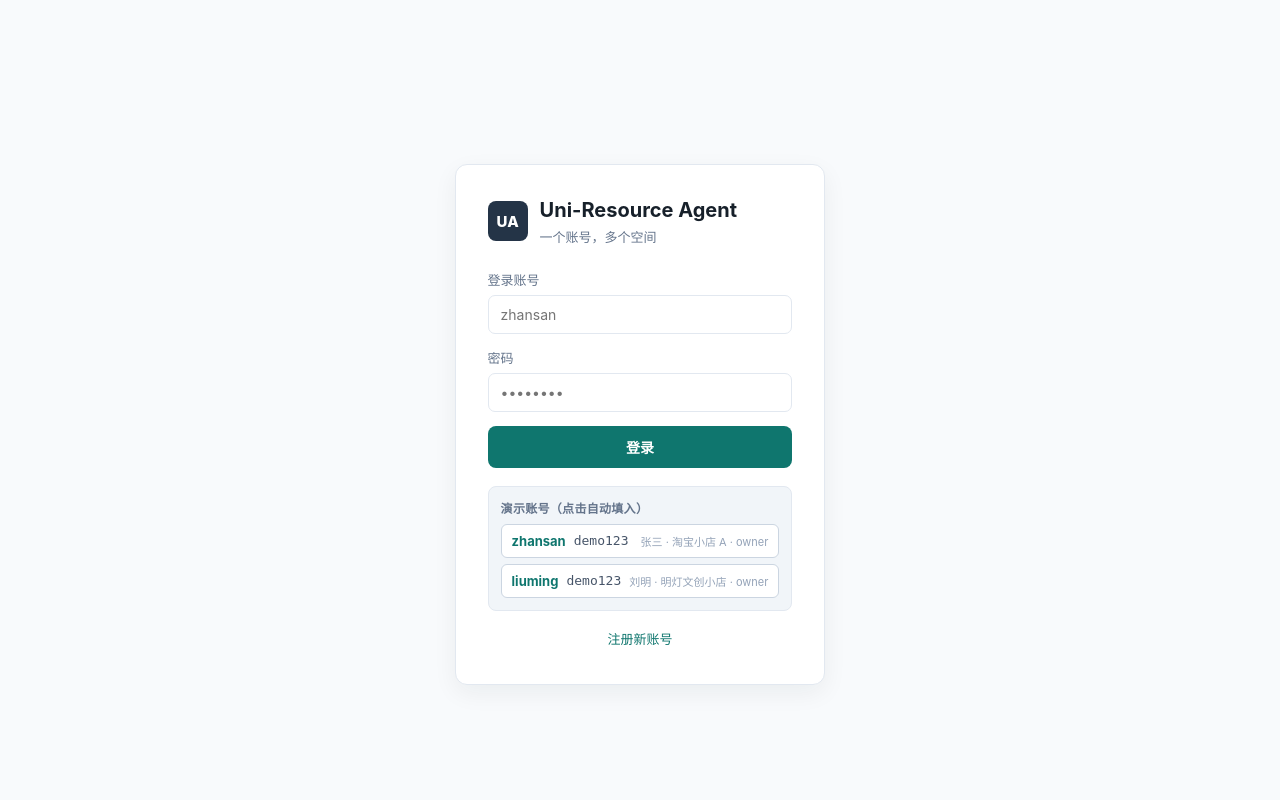
Test: App shell › places the header full-width on top, above the sidebar+main body grid
This screenshot has width=1280, height=800.
In the field with test id "login": [640, 314] box [488,294,792,334], type "shopkeeper"
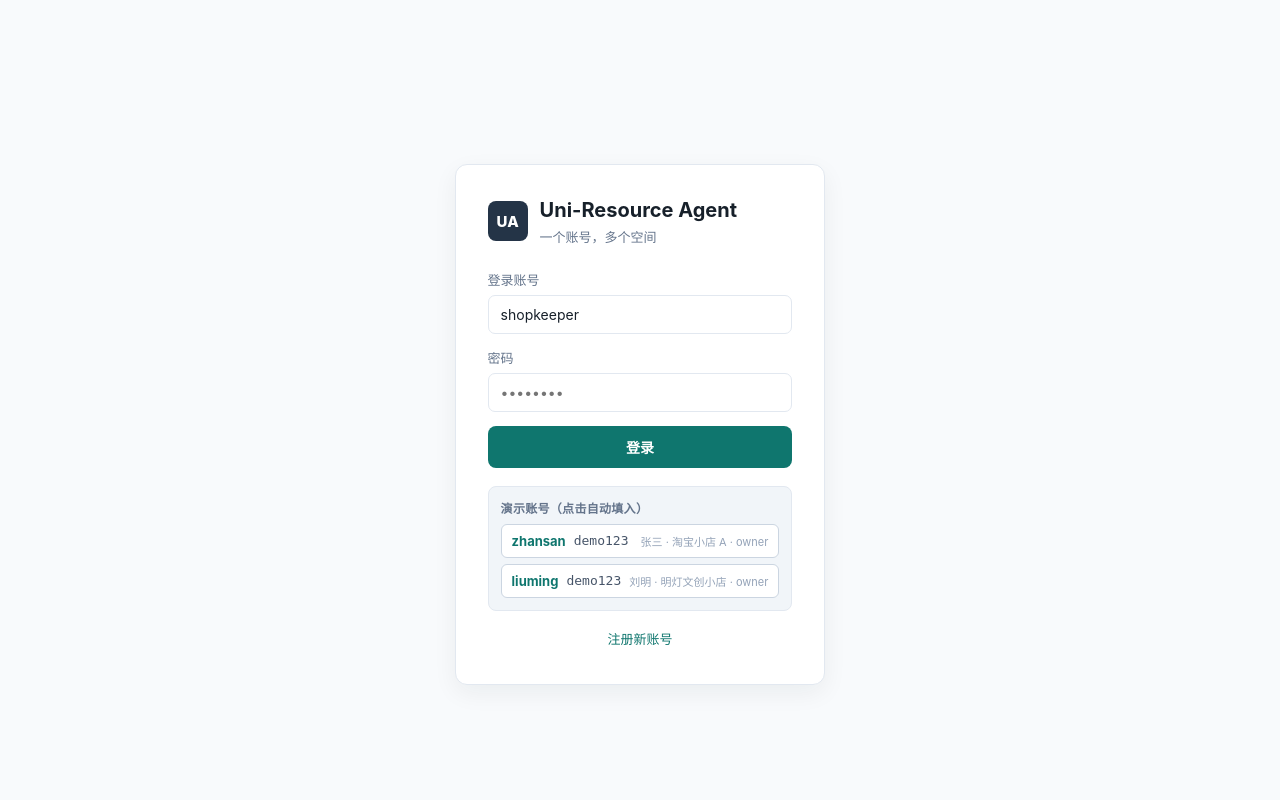
In the password field with test id "password": [640, 392] box [488,372,792,412], type "pass123"
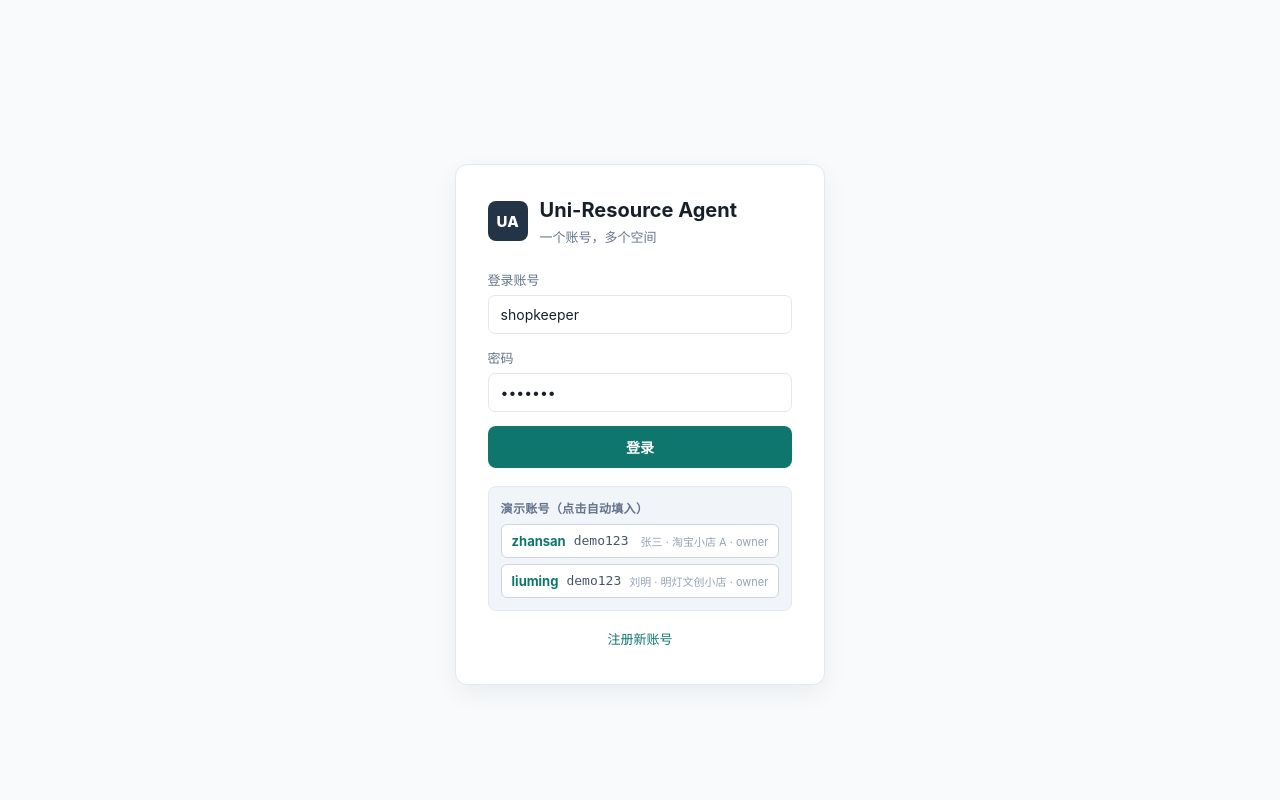
Submit the form, box [488,270,792,468]
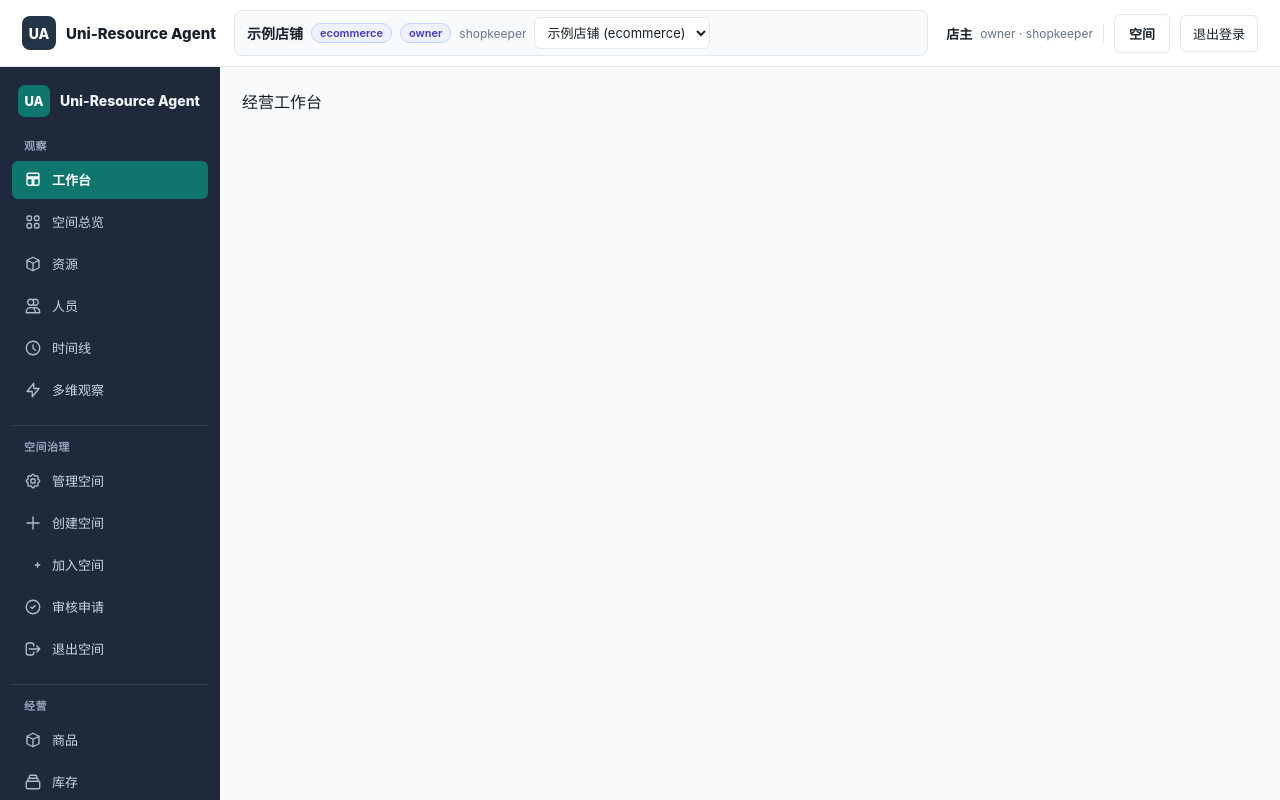
Expected: the header with test id "app-header" is shown, [0,0,1279,67]
